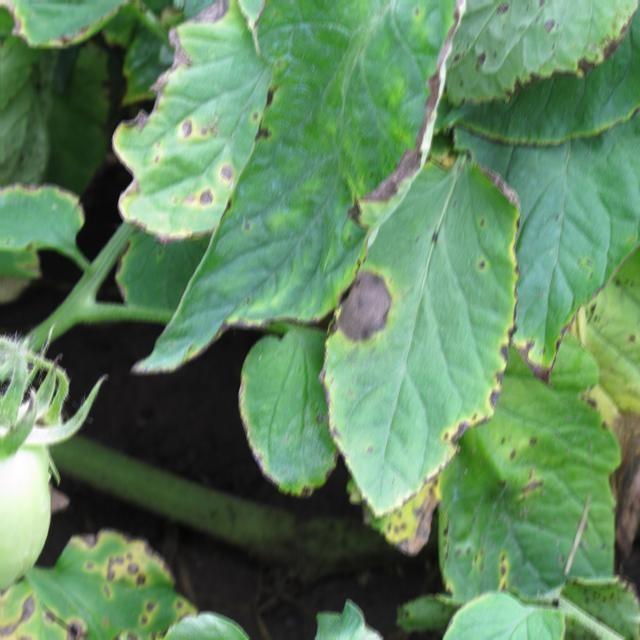Tomato Early blight leaf: (109, 0, 473, 362), (310, 154, 522, 499), (413, 363, 614, 623)
